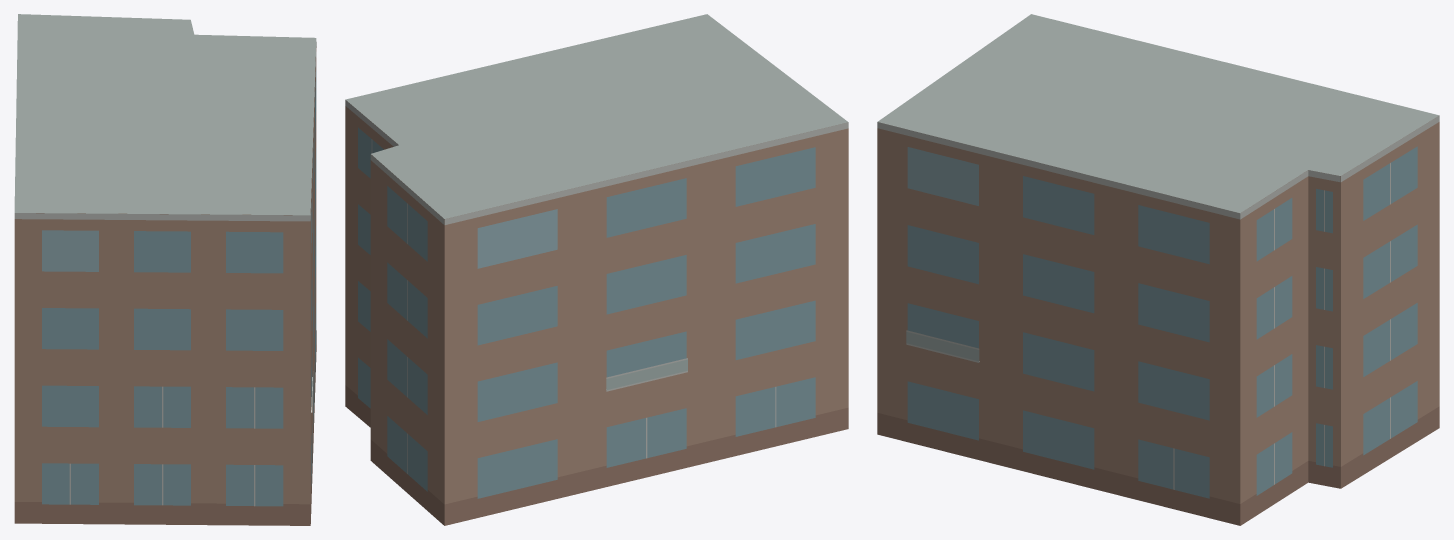
Rendered from survey-upis-32977896.glb.
The picture shows the model from 3 angles, left to right: view 1: azimuth 30°, elevation 25°; view 2: azimuth 150°, elevation 25°; view 3: azimuth 270°, elevation 25°; orthographic projection.
Parts seen in each view (by area): view 1: survey-upis-32977896.tmp; view 2: survey-upis-32977896.tmp; view 3: survey-upis-32977896.tmp.
Part boxes in pixels (box(x1,y1,x2,y2)): survey-upis-32977896.tmp: box(14, 14, 316, 525); survey-upis-32977896.tmp: box(345, 14, 848, 525); survey-upis-32977896.tmp: box(877, 14, 1439, 525).
Bounding box in the file's own units: 16.69 × 12.2 × 19.9.
